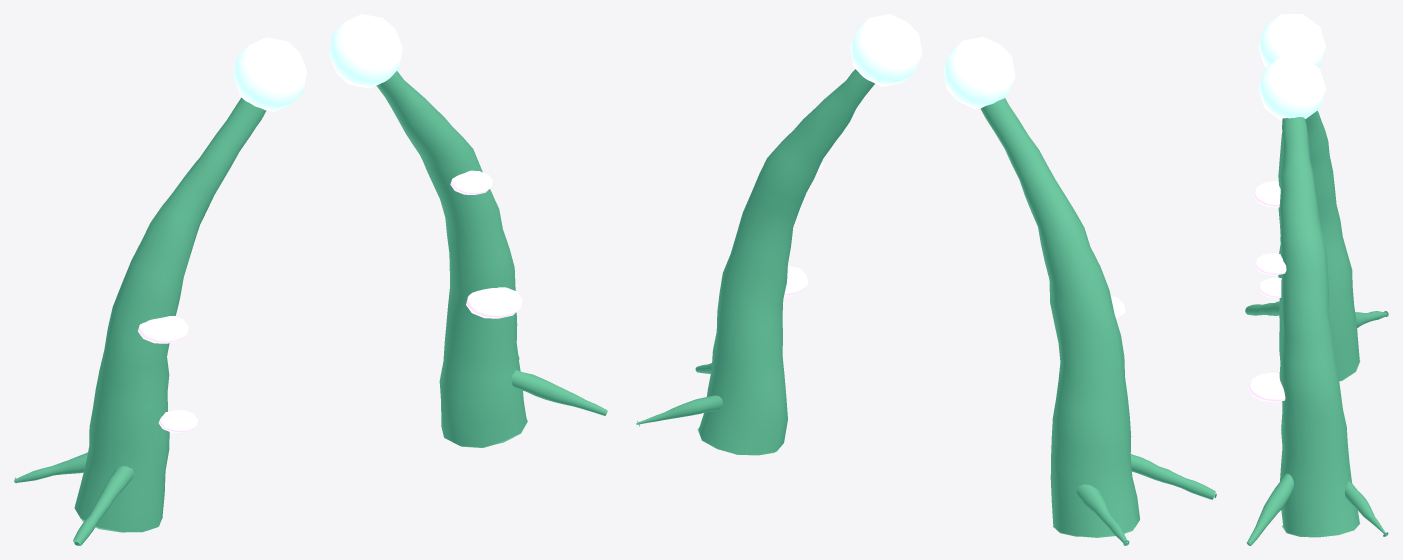
File: Canopy_RootGate.glb
3 renders of one model, left to right at view 1: azimuth 30°, elevation 25°; view 2: azimuth 150°, elevation 25°; view 3: azimuth 270°, elevation 25°, orthographic. The views are drawn at different scales.
Visible parts, largest first — view 1: RootGate_Body, Icosphere, Icosphere.001, Icosphere.002, Icosphere.003, Icosphere.004, Icosphere.005; view 2: RootGate_Body, Icosphere, Icosphere.001; view 3: RootGate_Body, Icosphere, Icosphere.001, Icosphere.002, Icosphere.003, Icosphere.004, Icosphere.005.
Part boxes in pixels (box(x1,y1,x2,y2)): RootGate_Body: box(14, 71, 607, 545); Icosphere: box(329, 14, 402, 88); Icosphere.001: box(233, 37, 307, 111); Icosphere.002: box(466, 287, 522, 318); Icosphere.003: box(138, 316, 188, 343); Icosphere.004: box(450, 170, 492, 194); Icosphere.005: box(158, 410, 198, 432); RootGate_Body: box(636, 69, 1216, 545); Icosphere: box(850, 14, 922, 86); Icosphere.001: box(943, 36, 1015, 109); RootGate_Body: box(1245, 110, 1388, 545); Icosphere: box(1258, 56, 1326, 120); Icosphere.001: box(1258, 14, 1326, 67); Icosphere.002: box(1247, 372, 1285, 402); Icosphere.003: box(1253, 180, 1280, 207); Icosphere.004: box(1254, 253, 1286, 275); Icosphere.005: box(1258, 277, 1281, 298).
Bounding box in the file's own units: 4.24 × 3.49 × 1.09.
